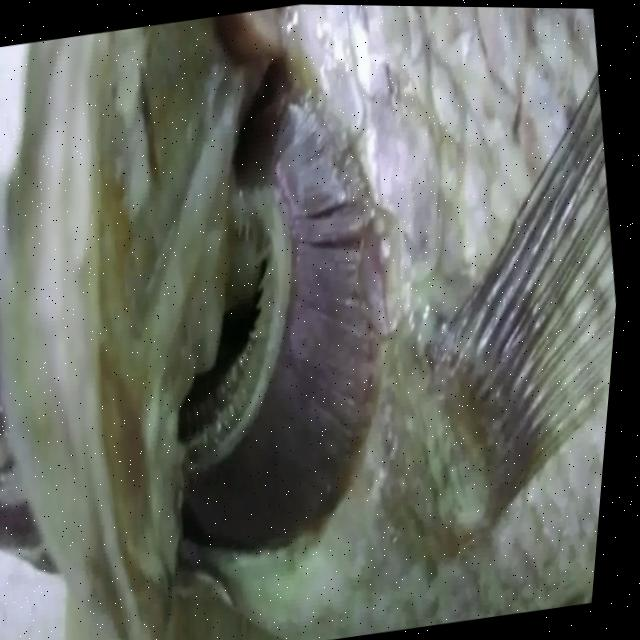Non-Fresh: (93, 27, 439, 602)
